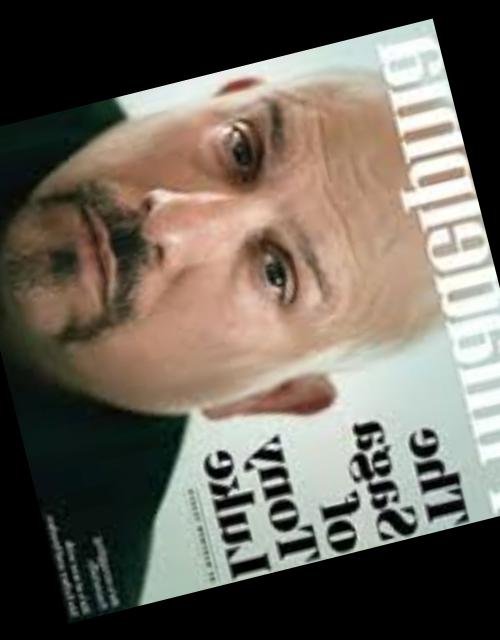cardboard paper: (0, 17, 500, 623)
